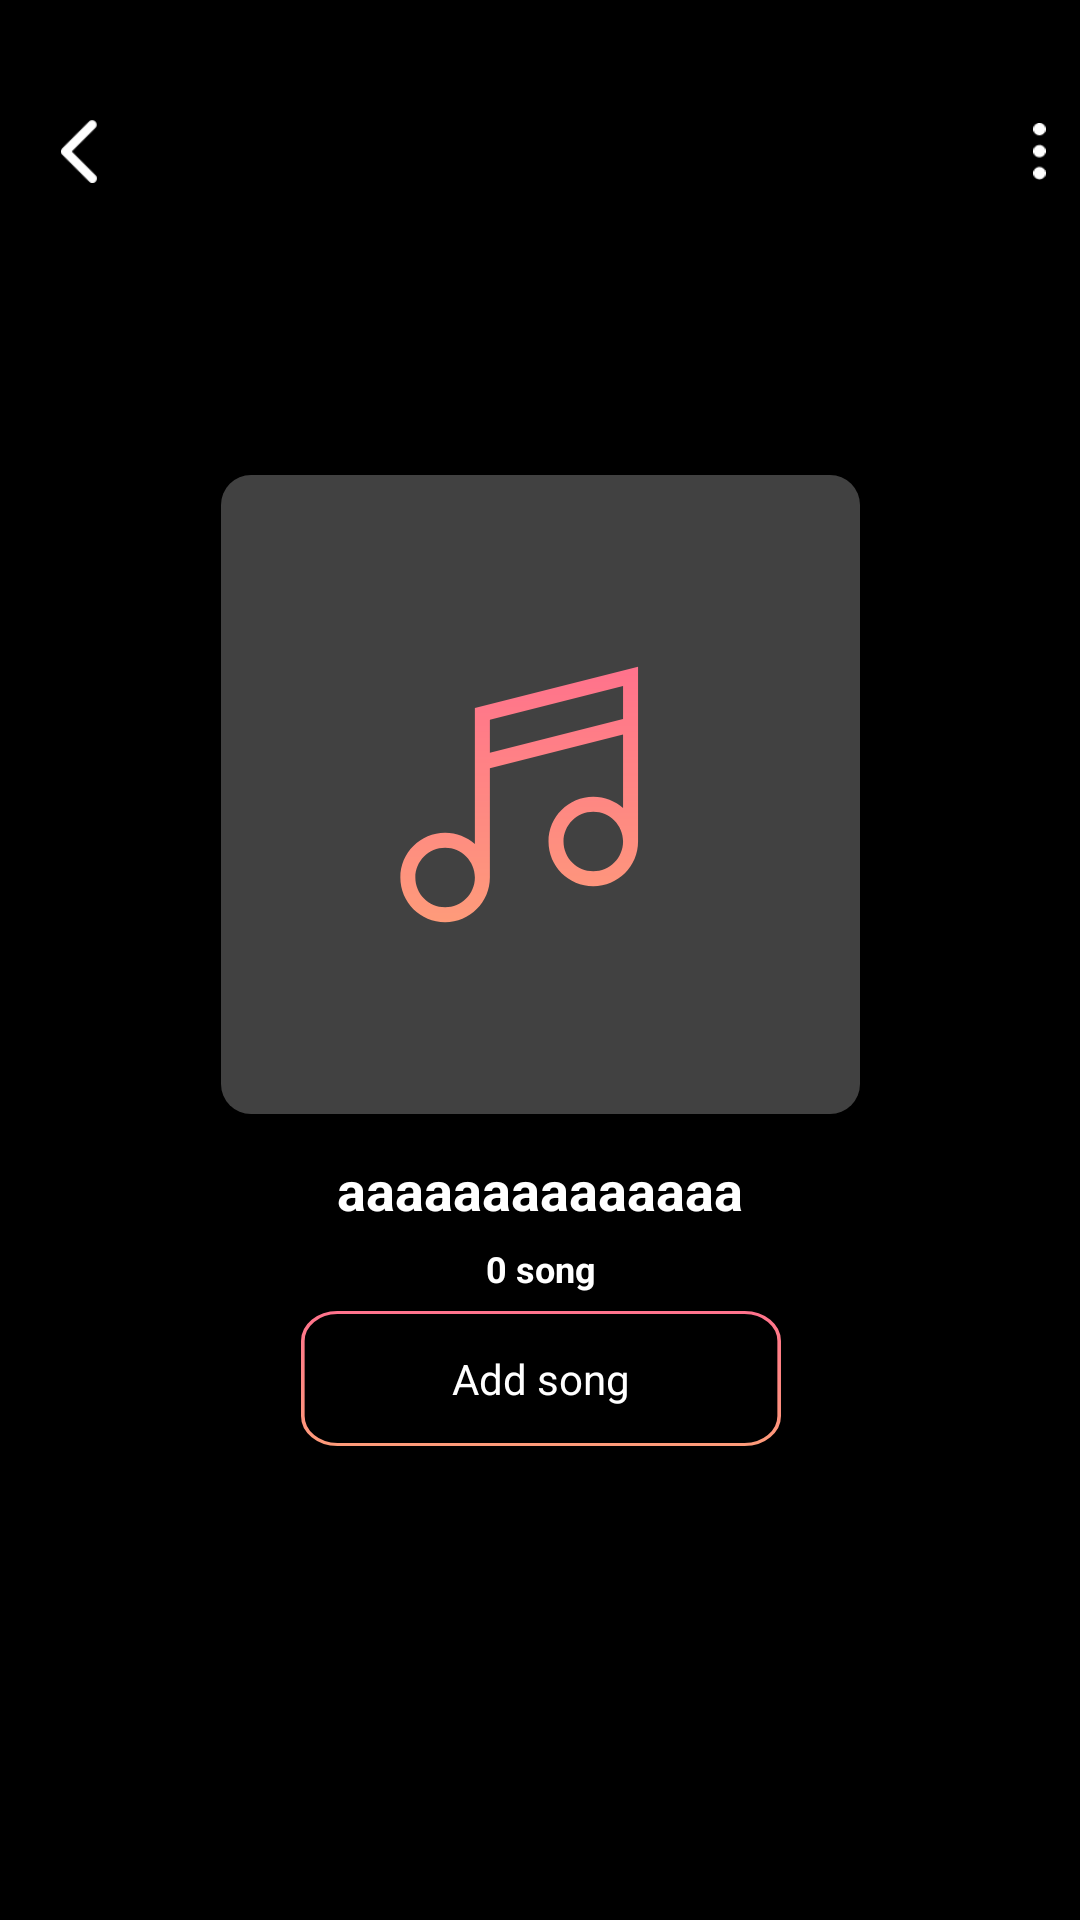

Point at icon controls on the screen. Image size 1080×1920, points as point (x, y).
back: point (79, 151)
kebab menu listened: point (1039, 151)
